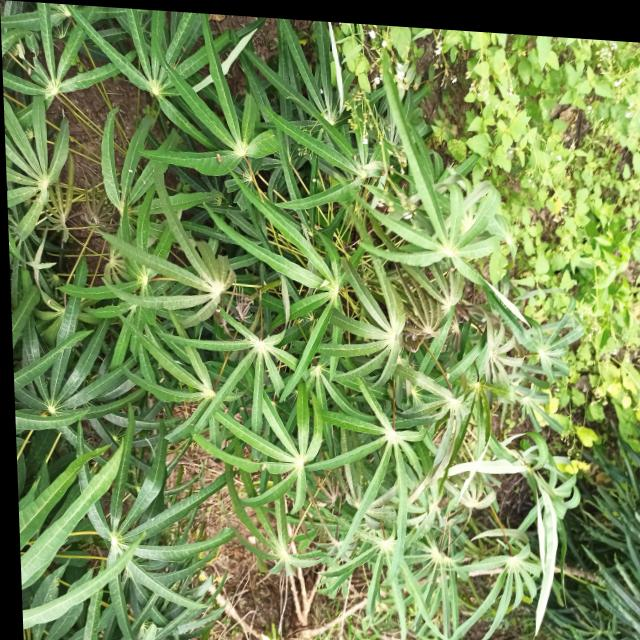Maleza: (509, 119, 640, 308), (435, 30, 630, 154)
Mosca: (212, 148, 223, 165), (126, 163, 135, 179), (212, 304, 222, 316), (308, 171, 316, 184), (313, 85, 323, 95)
